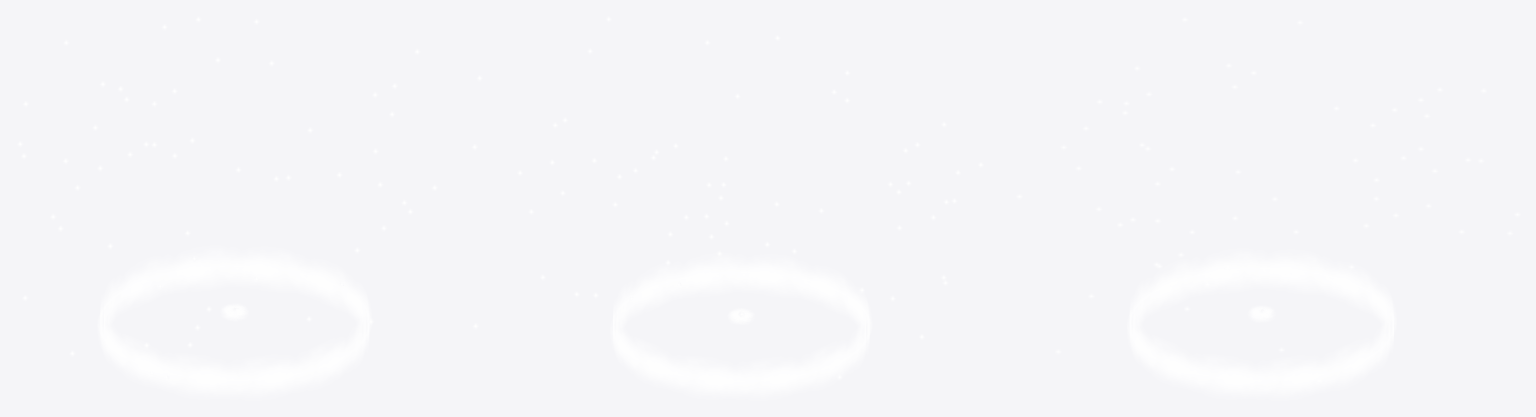
The model's file is elowen_whiteout.glb.
3 renders of one model, left to right at view 1: azimuth 30°, elevation 25°; view 2: azimuth 150°, elevation 25°; view 3: azimuth 270°, elevation 25°, orthographic. The views are drawn at different scales.
Visible parts, largest first — view 1: Elowen_StormRibbons, Elowen_StormFlecks; view 2: Elowen_StormRibbons, Elowen_StormFlecks; view 3: Elowen_StormRibbons, Elowen_StormFlecks.
Part boxes in pixels (x1,y1,x2,y2): Elowen_StormRibbons: [98, 248, 371, 398]; Elowen_StormFlecks: [17, 17, 482, 379]; Elowen_StormRibbons: [610, 255, 871, 398]; Elowen_StormFlecks: [517, 16, 983, 379]; Elowen_StormRibbons: [1127, 250, 1396, 398]; Elowen_StormFlecks: [1016, 17, 1520, 382].
Size of what is drawn, in the model's own units: 2.2 by 1.34 by 2.35.
Materials: 4 (4 with a texture image).
